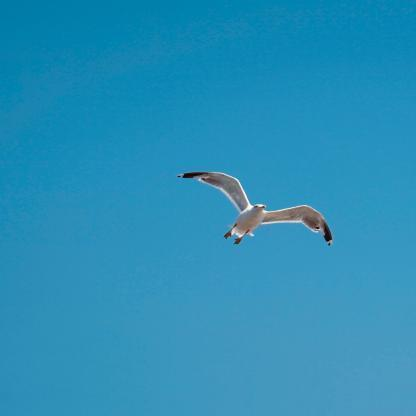bird: (177, 172, 334, 247)
